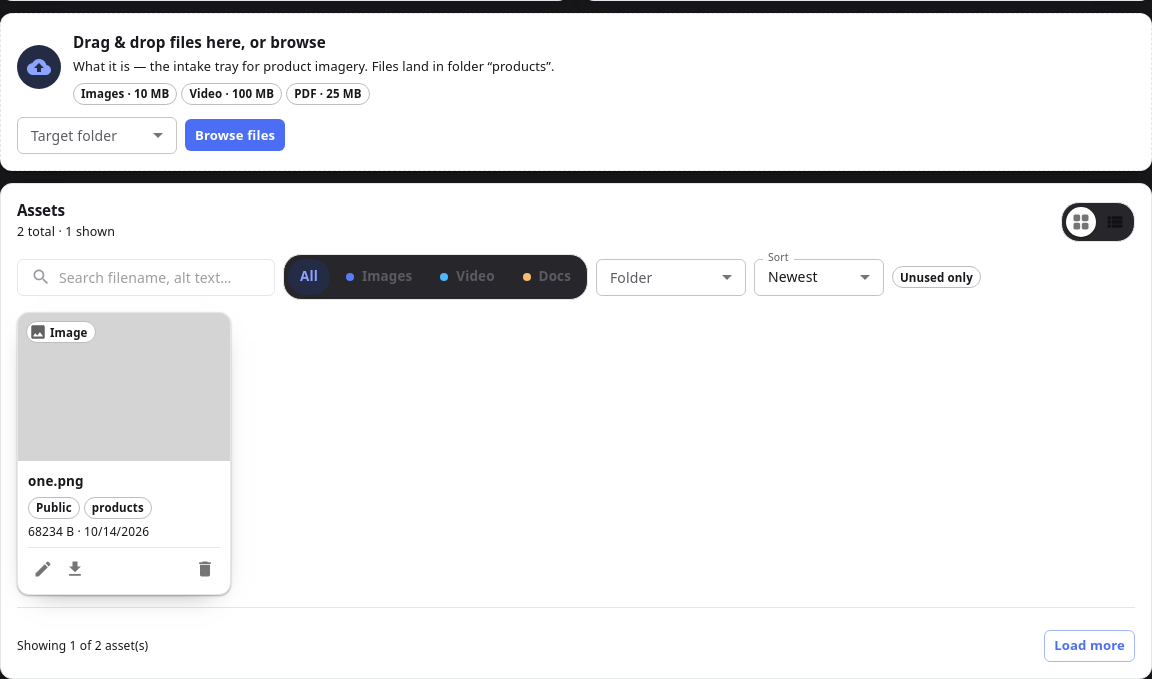
Scenario: MediaLibraryView › appends the next page when loading more on scroll
(page scrolled)
Expected: the text "one.png" is shown, [28, 472, 84, 490]
Expected: the text "Showing 1 of 2 asset(s)" is shown, [17, 637, 148, 655]
Click the button "Load more".
click(1090, 646)  # box [1044, 630, 1135, 662]
(page scrolled)
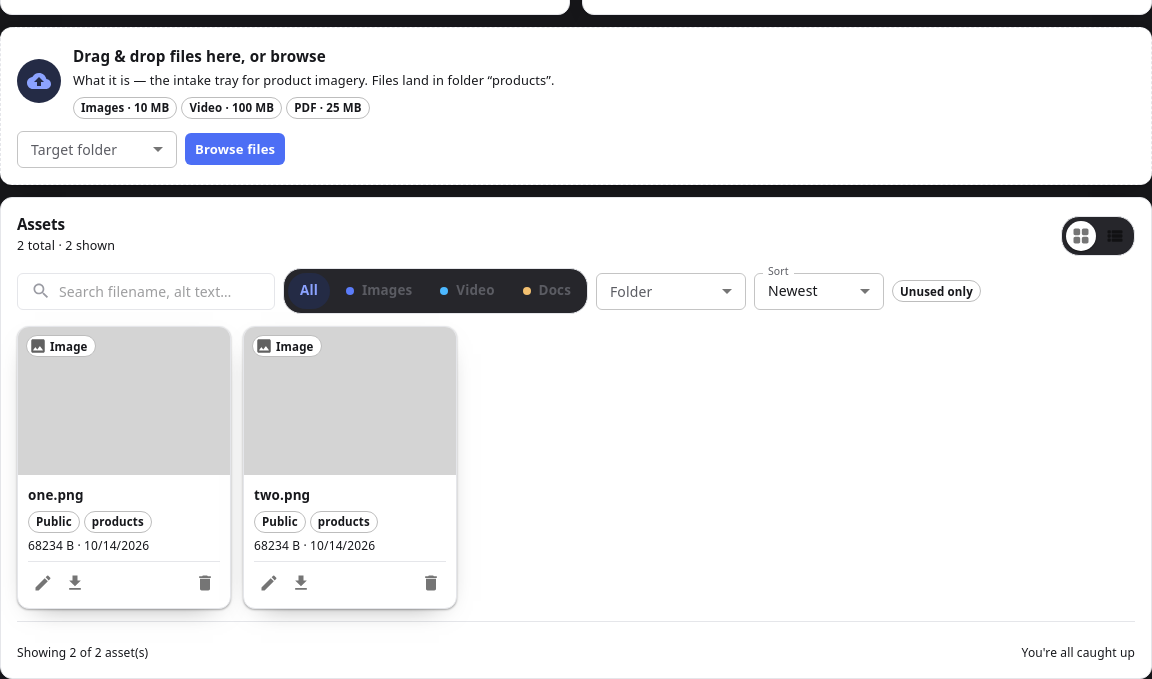
Now the text "two.png" is shown, box [254, 486, 310, 504]
Now the text "Showing 2 of 2 asset(s)" is shown, box [17, 644, 148, 662]
Now the button "Load more" is gone
